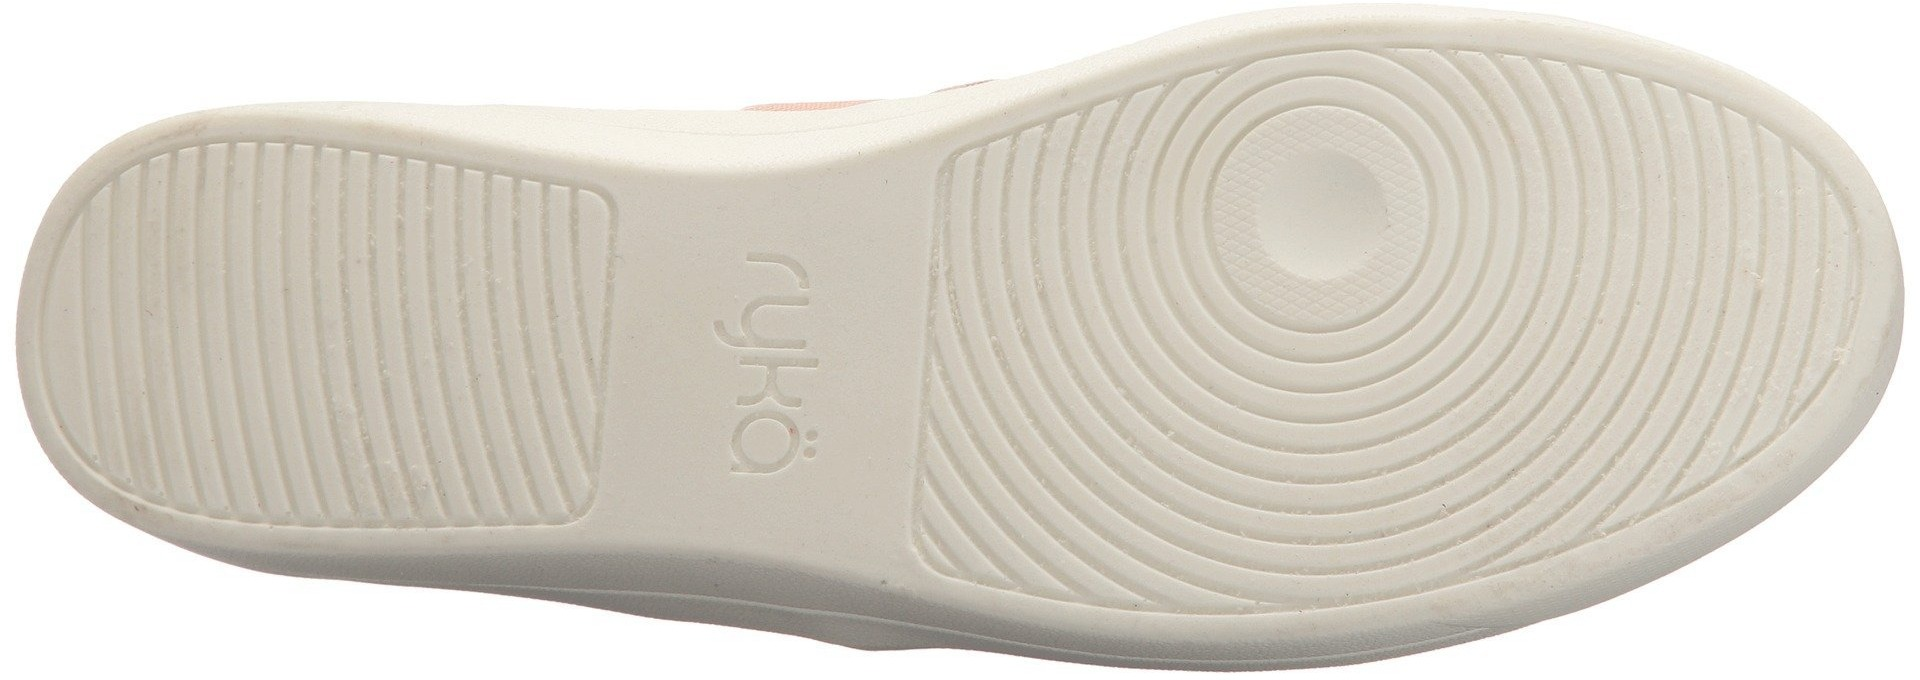circle: (1150, 64, 1521, 399), (1157, 71, 1447, 334), (698, 353, 831, 483)
line: (176, 189, 518, 497), (1483, 152, 1782, 433), (924, 310, 1213, 580), (1233, 368, 1469, 580)
quad: (1150, 64, 1521, 399), (1157, 71, 1447, 334)
text: (698, 353, 831, 483), (705, 240, 838, 357)
